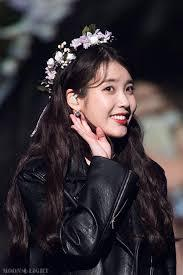earphone: (64, 93, 82, 107)
